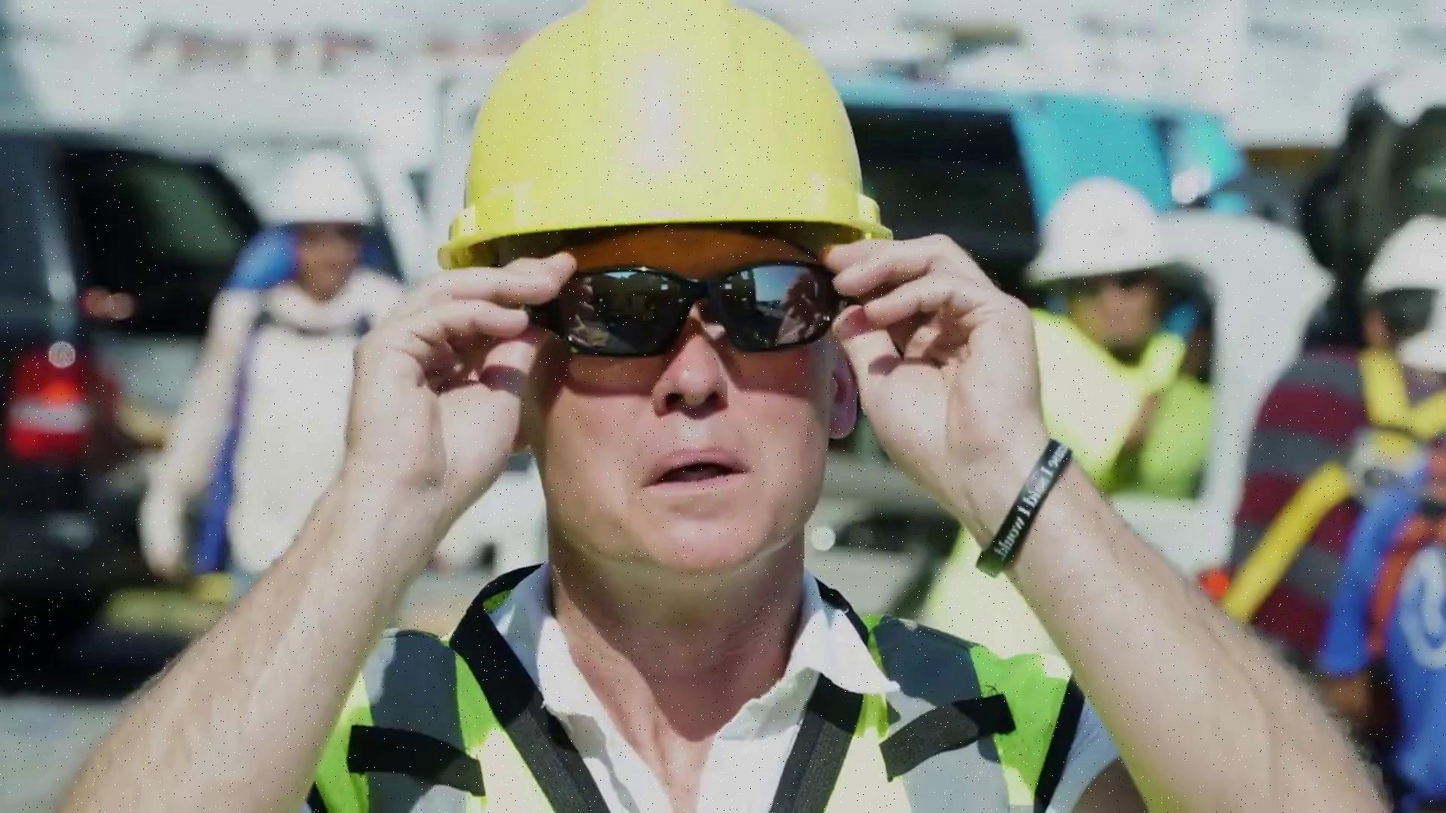Hard_hat: (414, 8, 900, 226), (1024, 170, 1195, 286), (263, 140, 384, 234), (1354, 211, 1446, 313)
